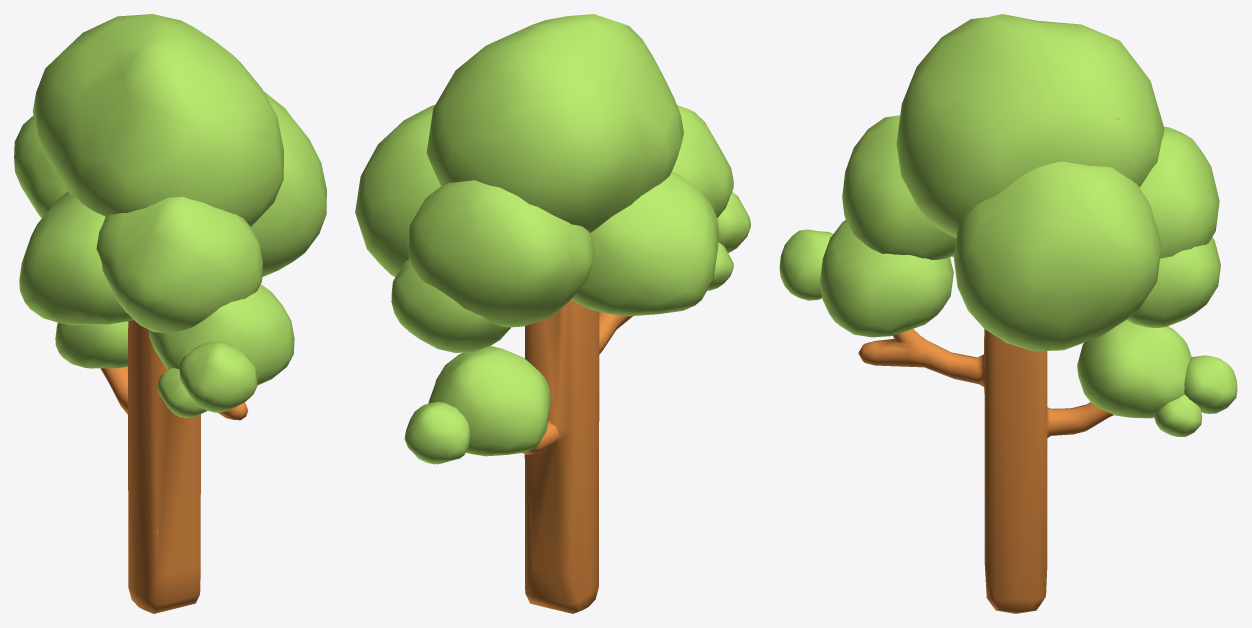
File: arbol uv.fbx
The picture shows the model from 3 angles, left to right: view 1: azimuth 30°, elevation 25°; view 2: azimuth 150°, elevation 25°; view 3: azimuth 270°, elevation 25°; orthographic projection. The views are drawn at different scales.
Visible parts, largest first — view 1: Esfera geodésica.009; view 2: Esfera geodésica.009; view 3: Esfera geodésica.009.
Boxes of the visible parts, x1=… form: Esfera geodésica.009: x1=14, y1=14, x2=326, y2=613; Esfera geodésica.009: x1=355, y1=14, x2=750, y2=613; Esfera geodésica.009: x1=779, y1=14, x2=1237, y2=613.
Bounding box in the file's own units: 397 × 715 × 513.
